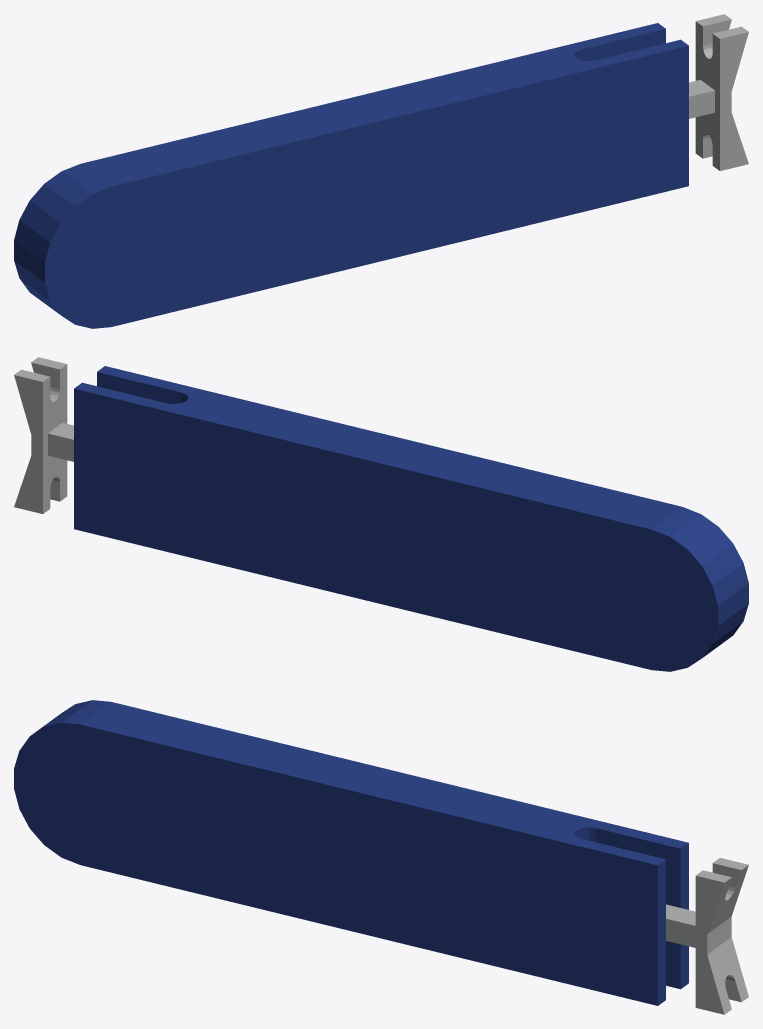
Rendered from arm_pan2_link.DAE.
The picture shows the model from 3 angles, top to bottom: view 1: azimuth 30°, elevation 25°; view 2: azimuth 150°, elevation 25°; view 3: azimuth 330°, elevation 25°; orthographic projection.
Parts seen in each view (by area): view 1: arm_pan2_link; view 2: arm_pan2_link; view 3: arm_pan2_link.
Part boxes in pixels (bbox=[...]): arm_pan2_link: bbox=[14, 14, 748, 328]; arm_pan2_link: bbox=[14, 357, 748, 671]; arm_pan2_link: bbox=[14, 700, 748, 1014].
Bounding box in the file's own units: 0.3343 × 0.0254 × 0.0635.
